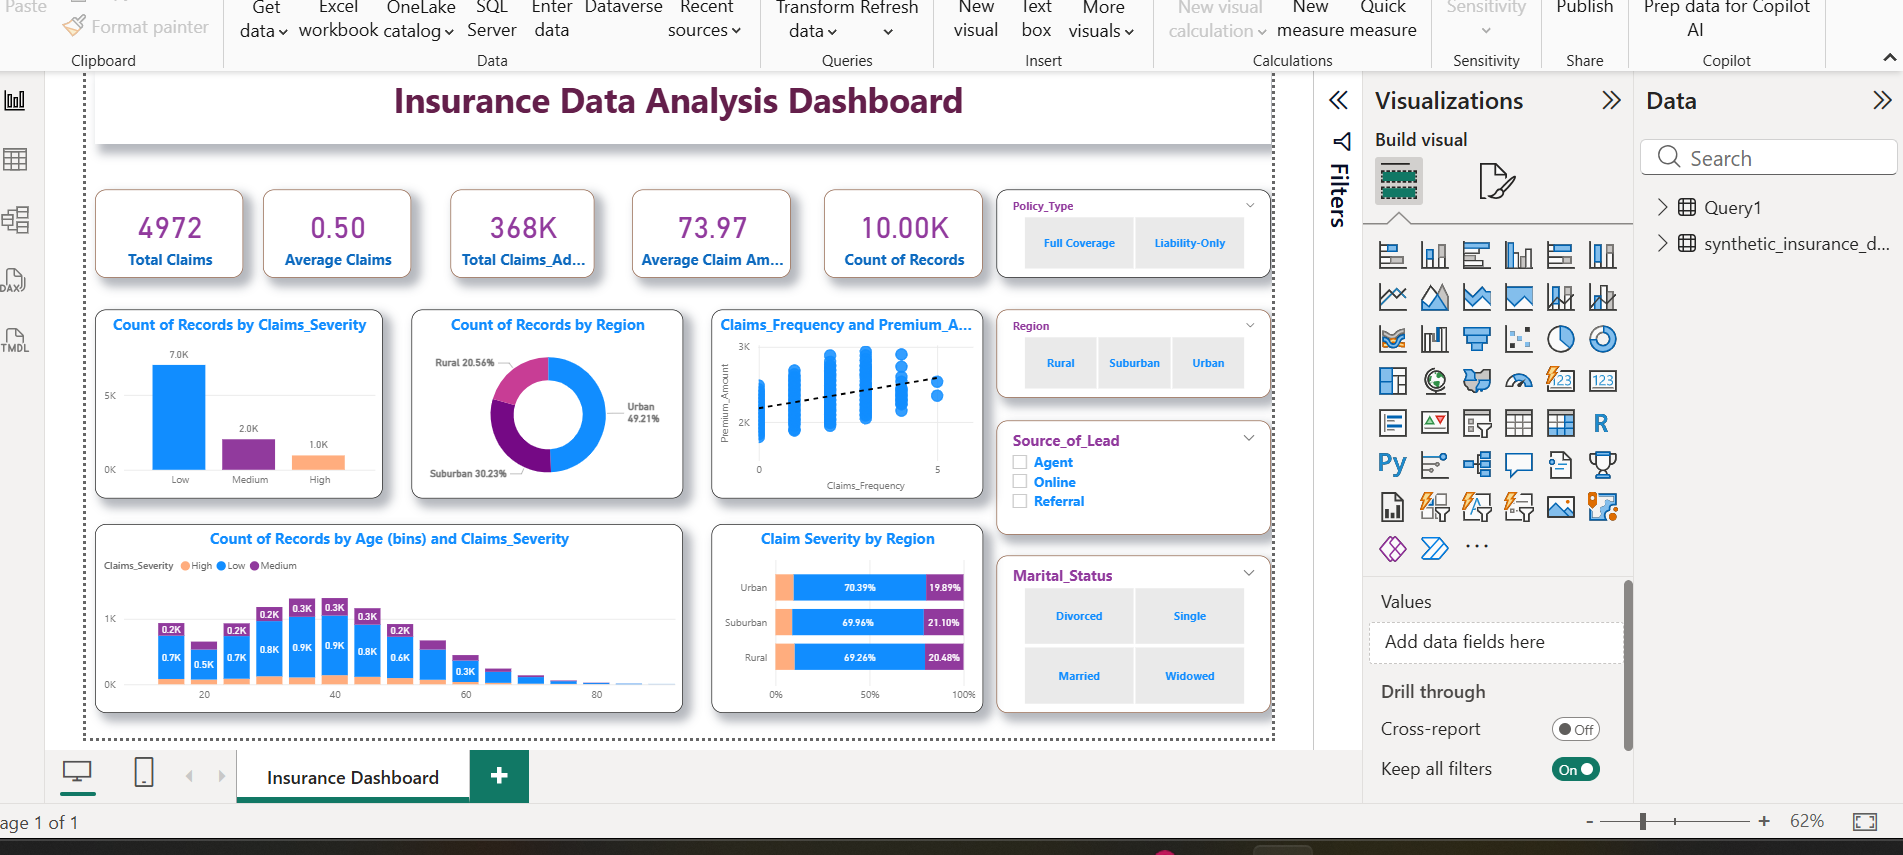

The dashboard page shown, as its layout file describes it:
{"tool":"powerbi","page":{"name":"Insurance Dashboard ","canvas":[1280,720],"ordinal":0},"visuals":[{"type":"textbox","box":[9.4,0,1269.9,79.4],"z":0},{"type":"card","fields":{"Values":["Sum(synthetic_insurance_data.Claims_Frequency)"]},"box":[9.7,127.9,160.3,95.5],"z":1000},{"type":"card","fields":{"Values":["Avg(synthetic_insurance_data.Claims_Frequency)"]},"box":[191.1,127.9,160.3,95.5],"z":2000},{"type":"card","fields":{"Values":["Sum(synthetic_insurance_data.Claims_Adjustment)"]},"box":[393.5,127.9,155.4,95.5],"z":3000},{"type":"columnChart","fields":{"Category":["synthetic_insurance_data.Claims_Severity"],"Y":["Count(synthetic_insurance_data.Index)"]},"box":[9.7,257.5,310.9,204],"z":4000},{"type":"columnChart","fields":{"Y":["Count(synthetic_insurance_data.Index)"],"Category":["synthetic_insurance_data.Age (bins)"],"Series":["synthetic_insurance_data.Claims_Severity"]},"box":[9.7,489,634.7,204],"z":5000},{"type":"donutChart","fields":{"Y":["Count(synthetic_insurance_data.Index)"],"Category":["synthetic_insurance_data.Region"]},"box":[351.4,257.5,293.1,204],"z":6000},{"type":"hundredPercentStackedBarChart","title":"Claim Severity by Region","fields":{"Category":["synthetic_insurance_data.Region"],"Y":["Count(synthetic_insurance_data.Index)"],"Series":["synthetic_insurance_data.Claims_Severity"]},"box":[675.2,489,293.1,204],"z":7000},{"type":"card","fields":{"Values":["synthetic_insurance_data.Average Claim Amount"]},"box":[589.4,127.9,171.6,95.5],"z":8000},{"type":"scatterChart","fields":{"X":["synthetic_insurance_data.Claims_Frequency"],"Y":["synthetic_insurance_data.Premium_Amount"]},"box":[675.2,257.5,293.1,204],"z":9000},{"type":"slicer","fields":{"Values":["synthetic_insurance_data.Policy_Type"]},"box":[982.9,127.9,296.3,95.5],"z":10000},{"type":"card","fields":{"Values":["Count(synthetic_insurance_data.Index)"]},"box":[796.7,127.9,171.6,95.5],"z":11000},{"type":"slicer","fields":{"Values":["synthetic_insurance_data.Region"]},"box":[982.9,257.5,296.3,95.5],"z":12000},{"type":"slicer","fields":{"Values":["synthetic_insurance_data.Marital_Status"]},"box":[982.9,523,296.3,170],"z":13000},{"type":"slicer","fields":{"Values":["synthetic_insurance_data.Source_of_Lead"]},"box":[982.9,377.3,296.3,123.1],"z":14000}]}

Visuals, with their boxes on the page's 1280x720 design canvas (x1, y1, x2, y2). These are canvas units, not pixel positions in the 1903x855 screenshot, which may show the page scaled, cropped or inside an application window:
textbox: locate(9, 0, 1279, 79)
card - Sum(synthetic_insurance_data.Claims_Frequency): locate(10, 128, 170, 223)
card - Avg(synthetic_insurance_data.Claims_Frequency): locate(191, 128, 351, 223)
card - Sum(synthetic_insurance_data.Claims_Adjustment): locate(394, 128, 549, 223)
columnChart - synthetic_insurance_data.Claims_Severity x Count(synthetic_insurance_data.Index): locate(10, 258, 321, 462)
columnChart - Count(synthetic_insurance_data.Index) x synthetic_insurance_data.Age (bins): locate(10, 489, 644, 693)
donutChart - Count(synthetic_insurance_data.Index) x synthetic_insurance_data.Region: locate(351, 258, 644, 462)
"Claim Severity by Region" hundredPercentStackedBarChart: locate(675, 489, 968, 693)
card - synthetic_insurance_data.Average Claim Amount: locate(589, 128, 761, 223)
scatterChart - synthetic_insurance_data.Claims_Frequency x synthetic_insurance_data.Premium_Amount: locate(675, 258, 968, 462)
slicer - synthetic_insurance_data.Policy_Type: locate(983, 128, 1279, 223)
card - Count(synthetic_insurance_data.Index): locate(797, 128, 968, 223)
slicer - synthetic_insurance_data.Region: locate(983, 258, 1279, 353)
slicer - synthetic_insurance_data.Marital_Status: locate(983, 523, 1279, 693)
slicer - synthetic_insurance_data.Source_of_Lead: locate(983, 377, 1279, 500)
